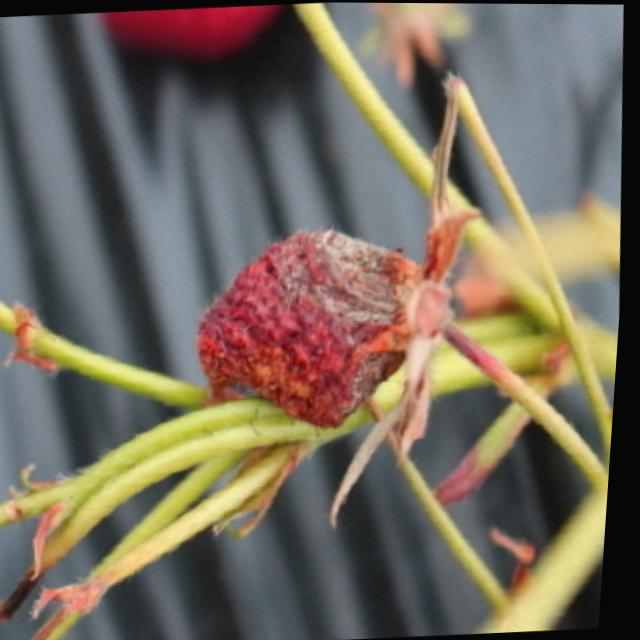Gray Mold: (198, 206, 506, 446)
